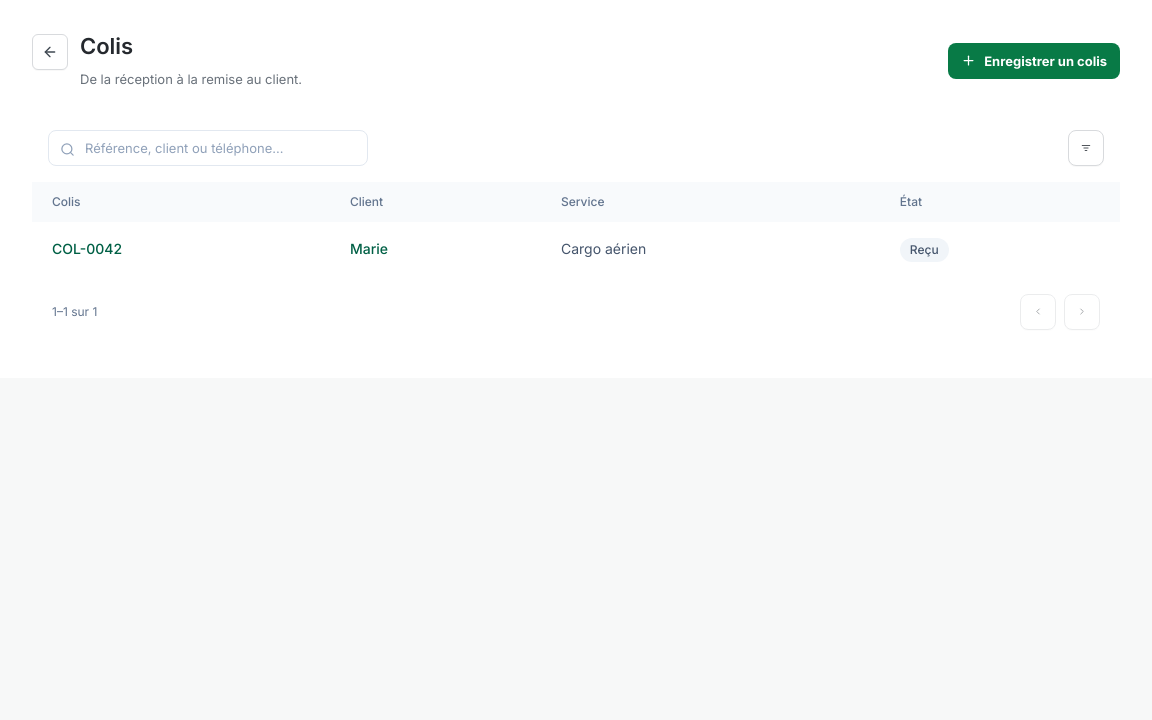
Test case: Registre fret › charge le tarif et la situation Finance du colis à la demande
Click the button "COL-0042" at (87, 249), box [52,239,122,259]
(page scrolled)
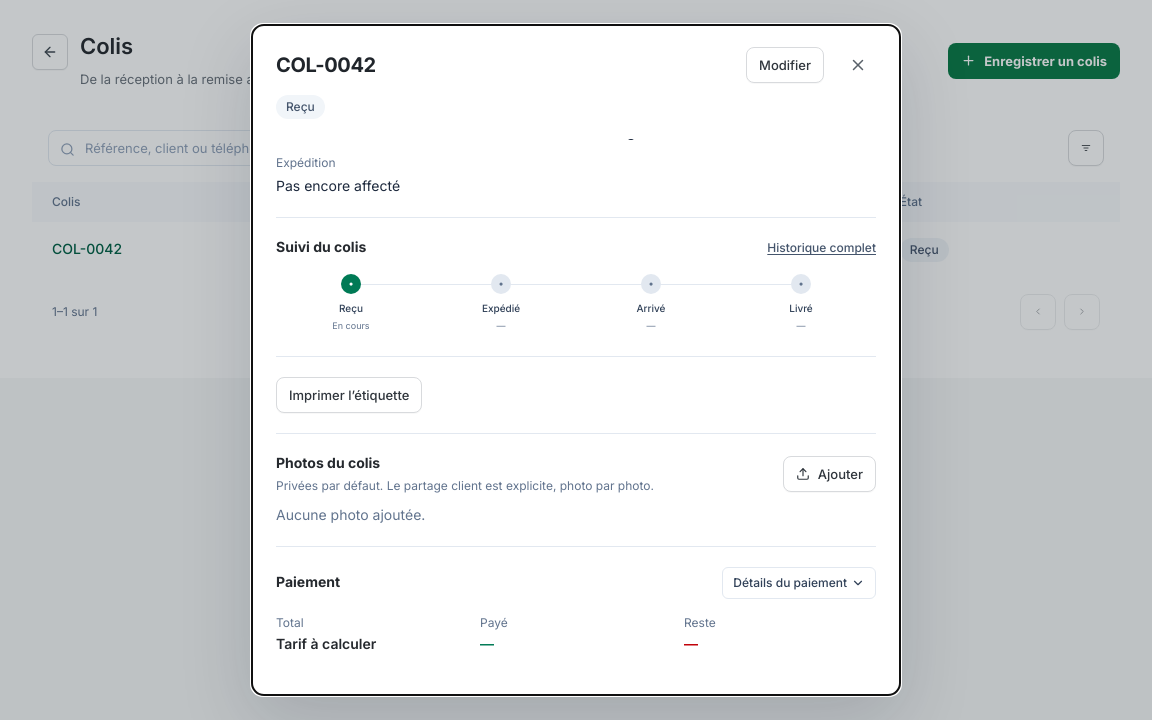
Click the button "Détails du paiement" at (799, 583), box [722,567,876,599]
(page scrolled)
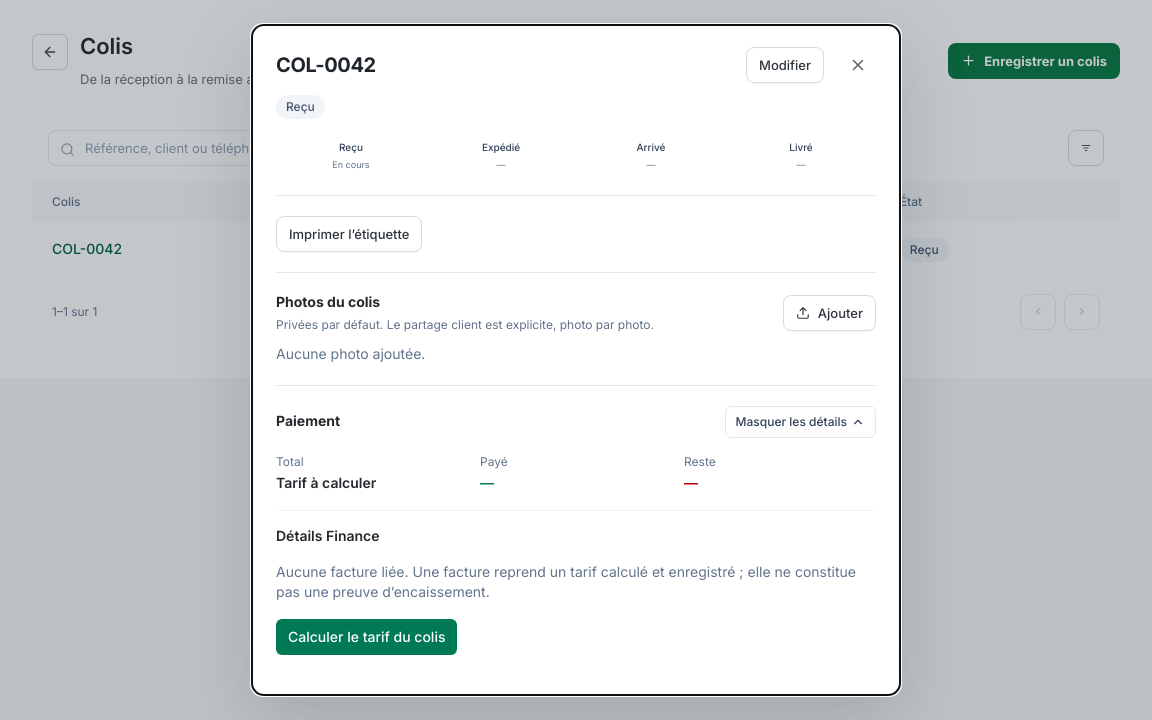
Expected: the heading "Détails Finance" is shown, [276,528,380,545]
Expected: the button "Calculer le tarif du colis" is shown, [276,619,458,655]
